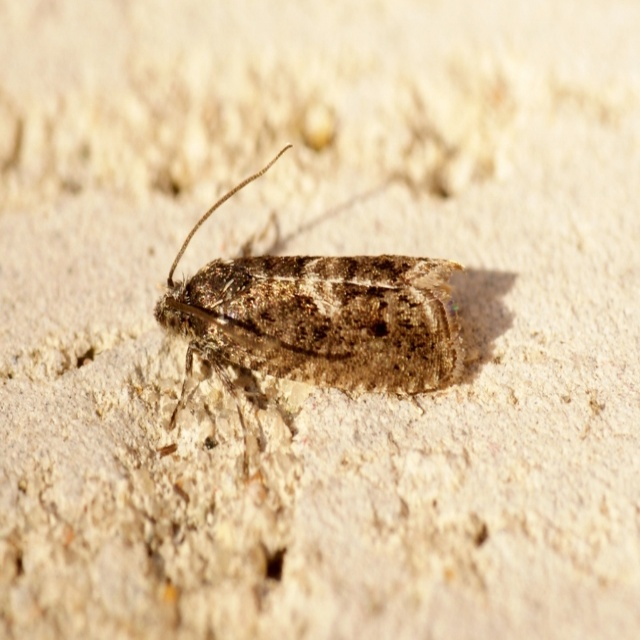Moths and butterflies: (155, 142, 469, 481)
